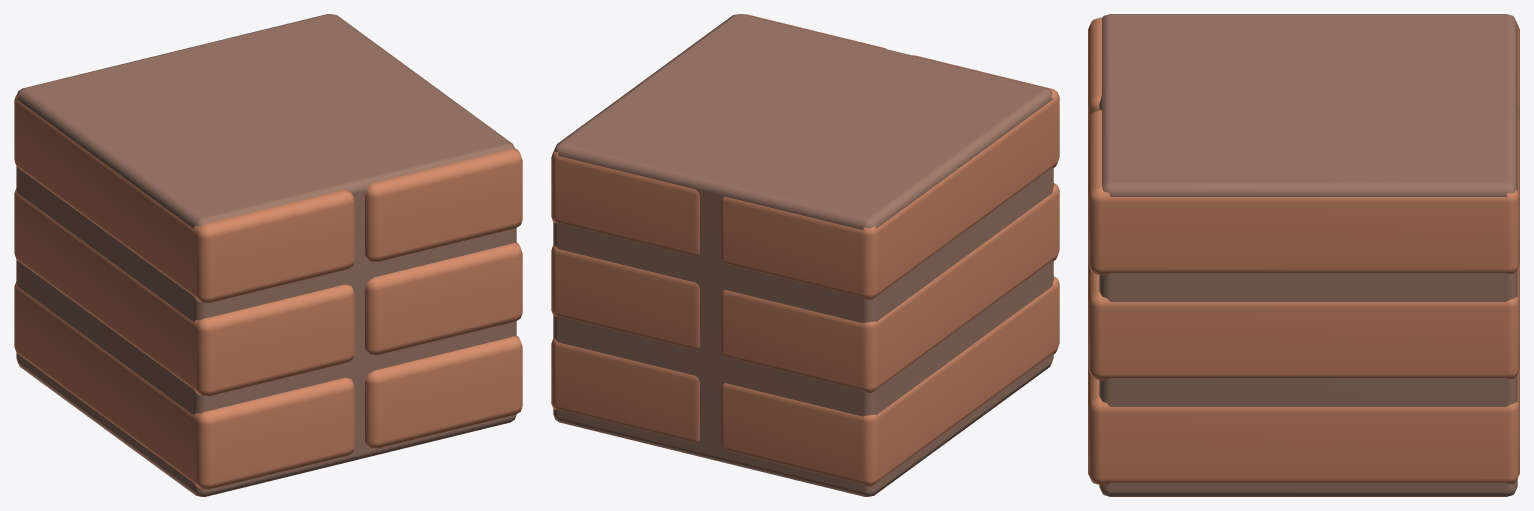
The model's file is Brick.fbx.
3 renders of one model, left to right at view 1: azimuth 30°, elevation 25°; view 2: azimuth 150°, elevation 25°; view 3: azimuth 270°, elevation 25°, orthographic. The views are drawn at different scales.
Visible parts, largest first — view 1: Mortar core, Baked brick.004, Baked brick.002, Baked brick, Baked brick.005, Baked brick.001, Baked brick.003; view 2: Mortar core, Baked brick.004, Baked brick.002, Baked brick, Baked brick.005, Baked brick.001, Baked brick.003; view 3: Mortar core, Baked brick.005, Baked brick.001, Baked brick.003, Baked brick.004.
Boxes of the visible parts, x1,y1,x2,y2 form: Mortar core: [16, 14, 516, 496]; Baked brick.004: [14, 95, 354, 302]; Baked brick.002: [14, 188, 354, 396]; Baked brick: [14, 281, 354, 489]; Baked brick.005: [365, 148, 522, 261]; Baked brick.001: [365, 336, 522, 448]; Baked brick.003: [365, 243, 522, 355]; Mortar core: [553, 14, 1053, 496]; Baked brick.004: [721, 55, 1059, 299]; Baked brick.002: [721, 183, 1059, 392]; Baked brick: [721, 276, 1059, 486]; Baked brick.005: [551, 14, 885, 256]; Baked brick.001: [551, 338, 699, 443]; Baked brick.003: [551, 245, 699, 349]; Mortar core: [1099, 14, 1517, 496]; Baked brick.005: [1088, 110, 1519, 275]; Baked brick.001: [1088, 369, 1519, 485]; Baked brick.003: [1088, 264, 1519, 380]; Baked brick.004: [1088, 17, 1519, 120].
Bounding box in the file's own units: 95 × 78 × 97.
